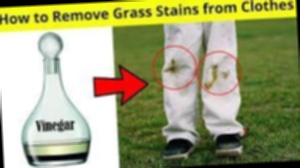earth: (205, 65, 227, 88), (166, 56, 183, 76)
